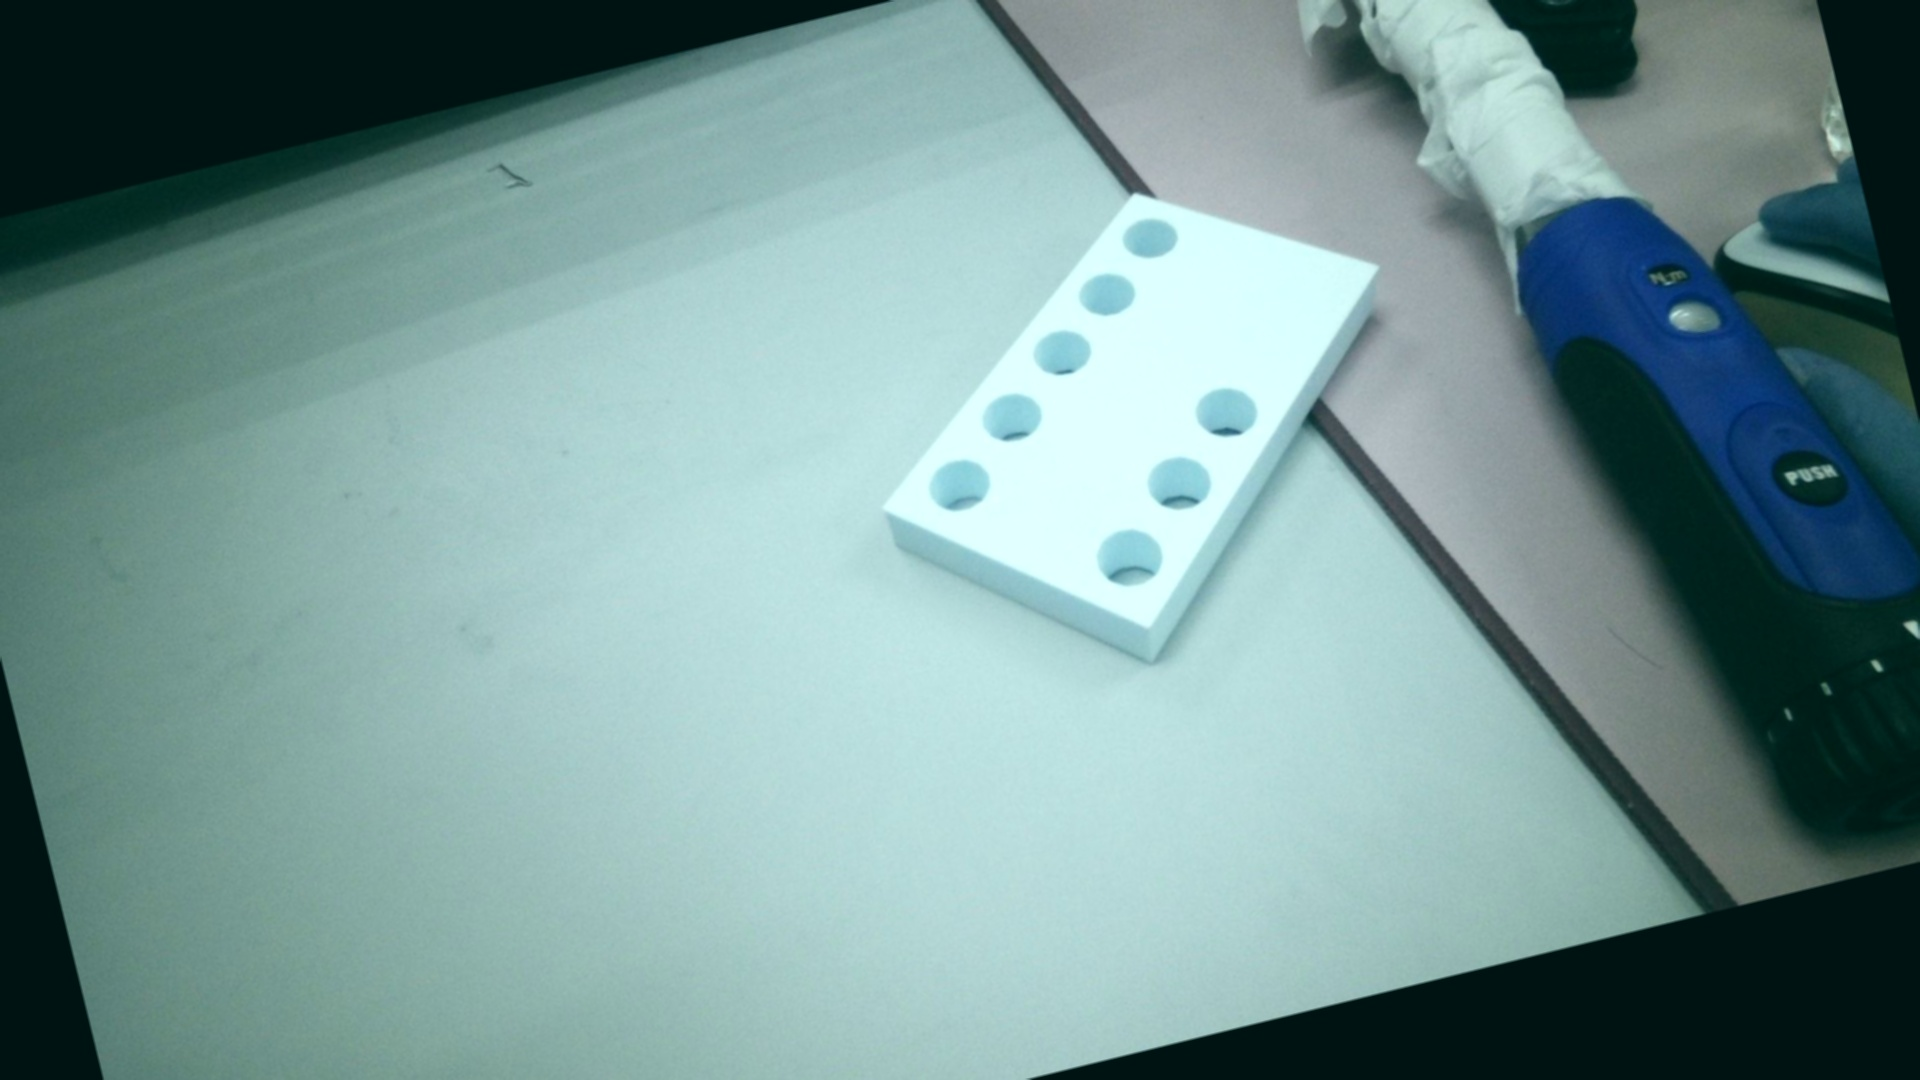hole: (1139, 443, 1221, 524), (1089, 520, 1168, 599), (975, 384, 1050, 451), (918, 455, 996, 520), (1025, 318, 1098, 384), (1189, 376, 1262, 442), (1114, 210, 1184, 262), (1073, 266, 1135, 319)
obj: (808, 127, 1478, 741)
